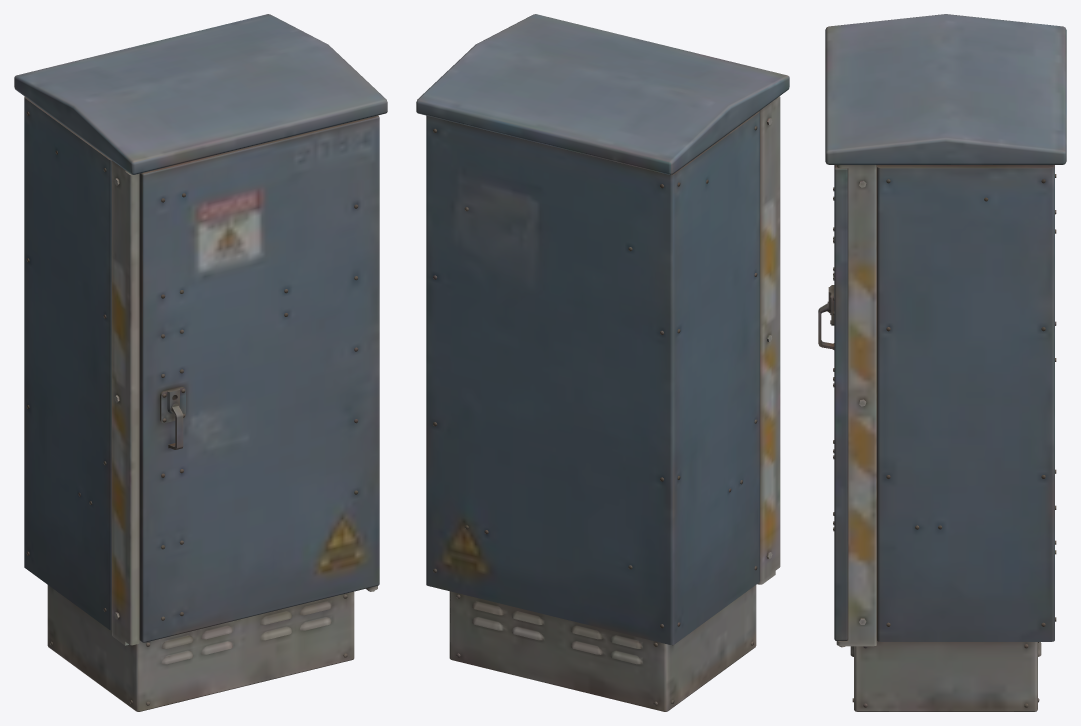
File: utility-box--1.gltf
The picture shows the model from 3 angles, left to right: view 1: azimuth 30°, elevation 25°; view 2: azimuth 150°, elevation 25°; view 3: azimuth 270°, elevation 25°; orthographic projection.
Visible parts, largest first — view 1: utility_box_01_box; view 2: utility_box_01_box; view 3: utility_box_01_box.
Part boxes in pixels (x1,y1,x2,y2): utility_box_01_box: (14, 14, 387, 711); utility_box_01_box: (416, 14, 789, 711); utility_box_01_box: (818, 14, 1066, 711).
Size of the model in its own units: 0.52 by 1.12 by 0.4319.
Materials: 1 (1 with a texture image).
